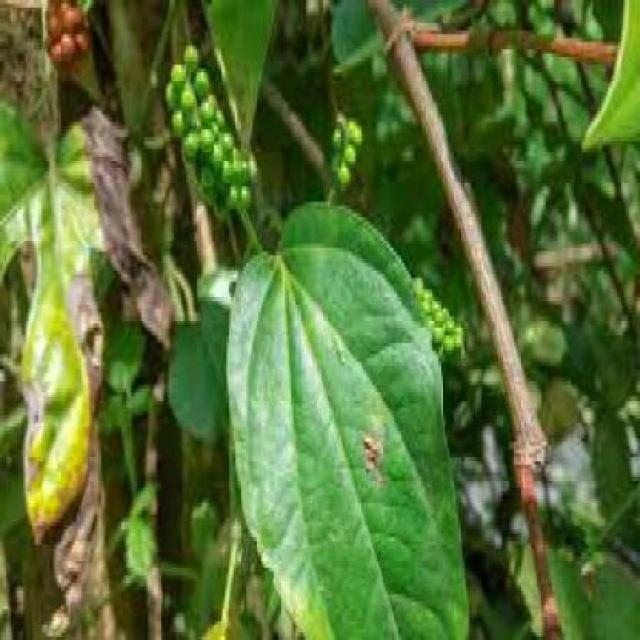RIPE: (51, 0, 92, 62)
UNRIPE: (170, 42, 253, 209), (420, 275, 469, 348), (334, 111, 365, 183)
